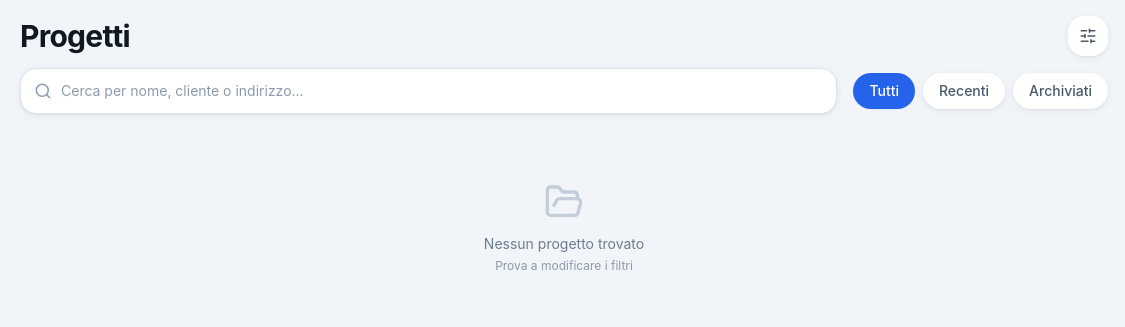
Test: ProjectList › keeps archived projects hidden in "Tutti" until a matching search query is entered
Expected: the text "Nessun progetto trovato" is shown, [484,235,644,252]
Type "CX" into the field with placeholder "Cerca per nome, cliente o indirizzo..." at (429, 91), box [20,68,837,114]
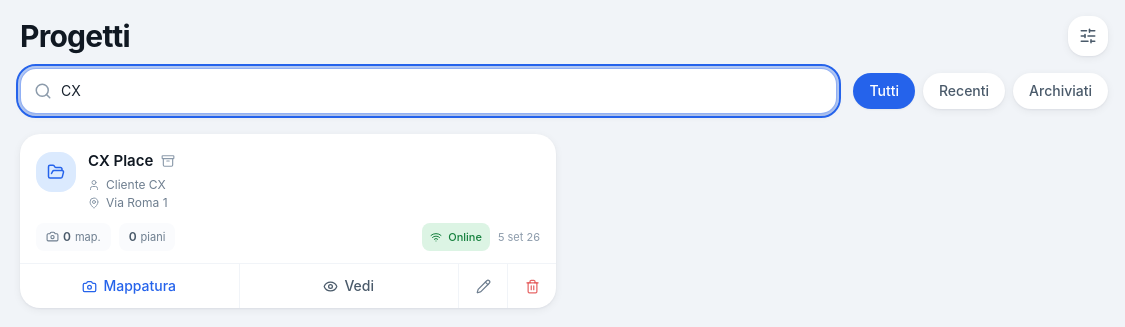
Result: the heading "CX Place" is shown at [88,150,153,172]
